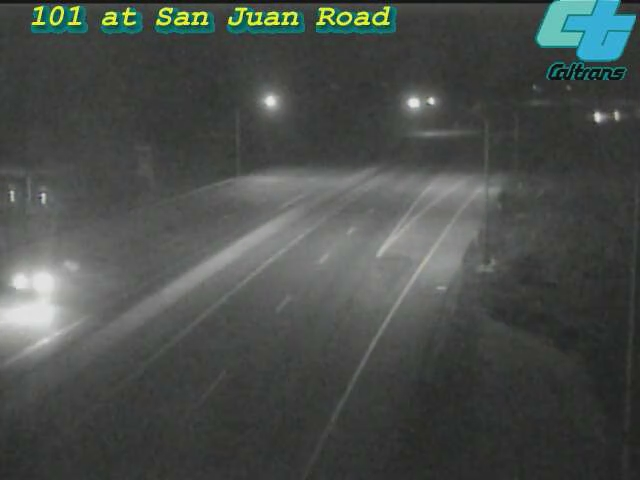vehicle: (1, 241, 71, 321), (573, 92, 623, 142), (591, 90, 640, 140)
